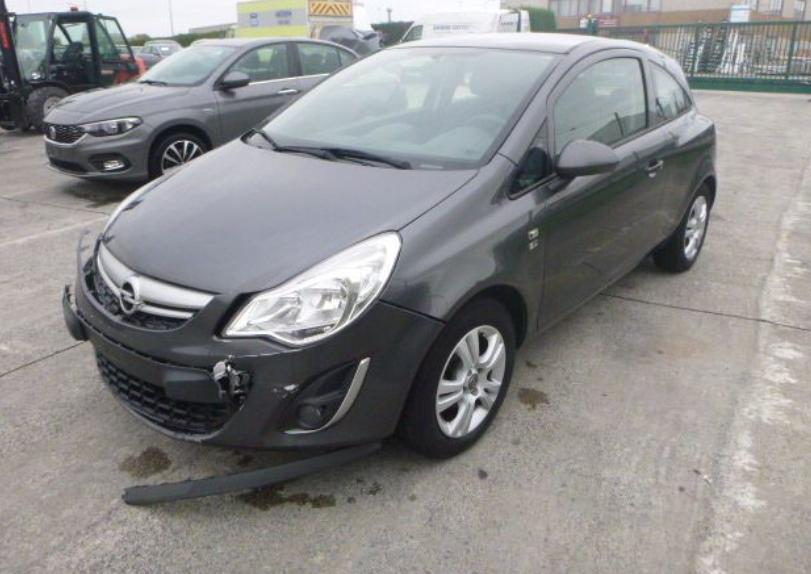Back-wheel: (653, 181, 710, 274)
Back-window: (649, 60, 692, 124)
Fender: (375, 154, 547, 337)
Front-bumper: (62, 258, 443, 450)
Front-door: (536, 49, 668, 330)
Front-wheel: (393, 295, 517, 459)
Front-window: (554, 57, 647, 164), (508, 119, 550, 198)
Grille: (89, 235, 214, 330)
Headlight: (221, 232, 402, 345), (101, 175, 165, 240)
Hood: (104, 134, 482, 294)
Mirror: (546, 138, 618, 194)
Quarter-panel: (652, 105, 717, 250)
Rocker-panel: (538, 256, 642, 336)
Roof: (385, 33, 611, 54)
Windshield: (241, 47, 564, 171)
